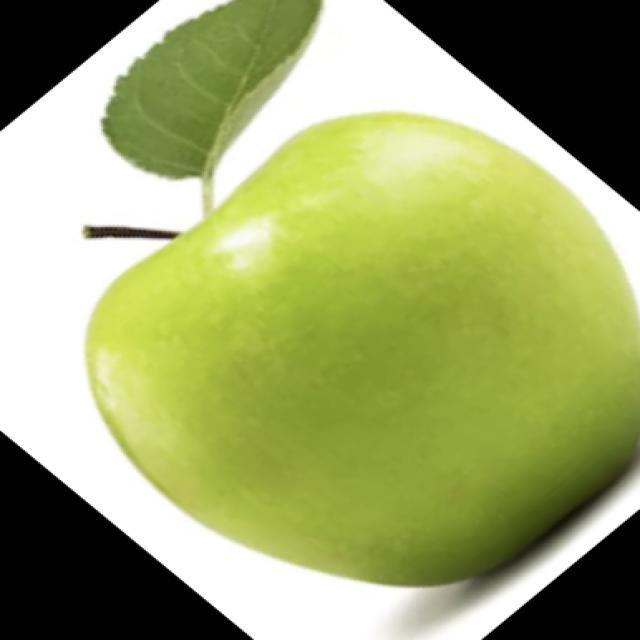Fresh Apple: (86, 106, 640, 589)
